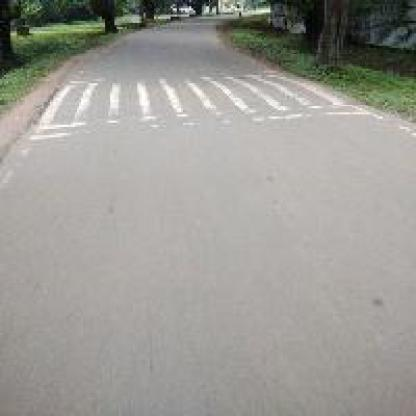Speed Bump: (33, 68, 343, 141)
